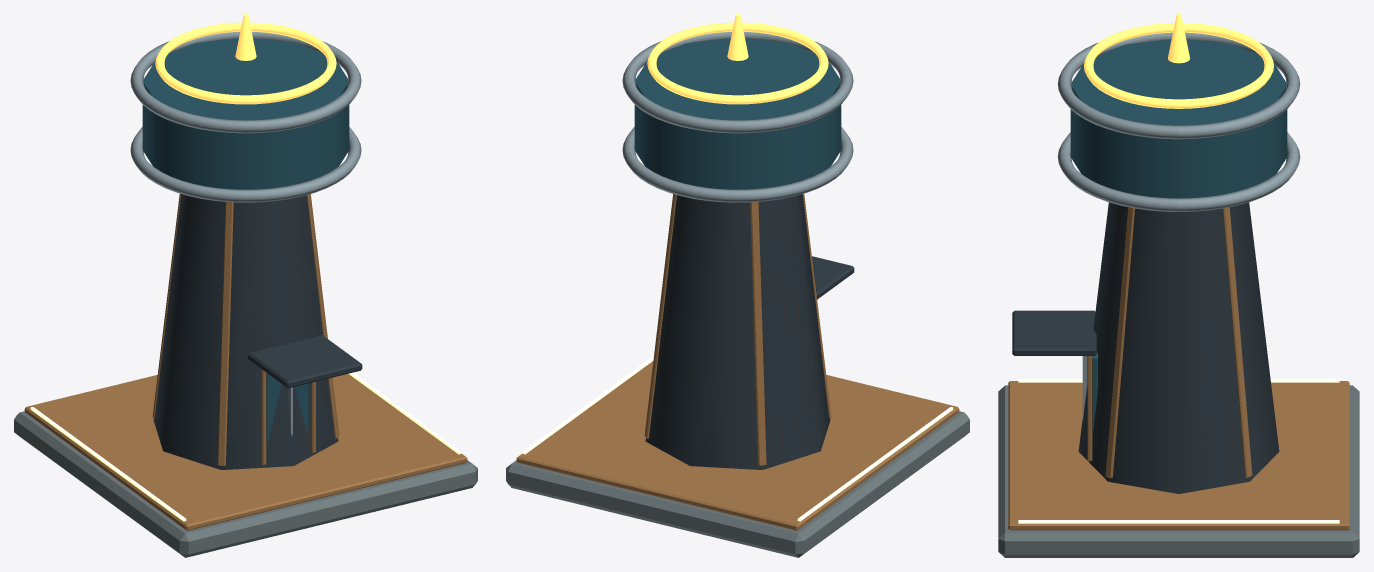
Rendered from operations-beacon.lod0.glb.
3 views of the same model, side by side, from view 1: azimuth 30°, elevation 25°; view 2: azimuth 150°, elevation 25°; view 3: azimuth 270°, elevation 25° (orthographic). The views are drawn at different scales.
Parts seen in each view (by area): view 1: structure, signal; view 2: structure, signal; view 3: structure, signal.
Part boxes in pixels (x1,y1,x2,y2): structure: (14,32,477,557); signal: (155,14,336,104); structure: (506,32,969,557); signal: (647,14,828,104); structure: (998,32,1359,557); signal: (1084,14,1273,108).
Size of the model in its own units: 9 by 12.9 by 9.
